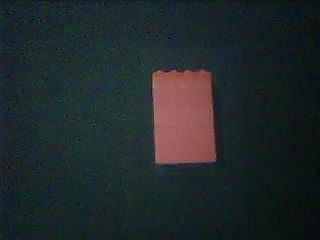lego: (148, 68, 219, 166)
